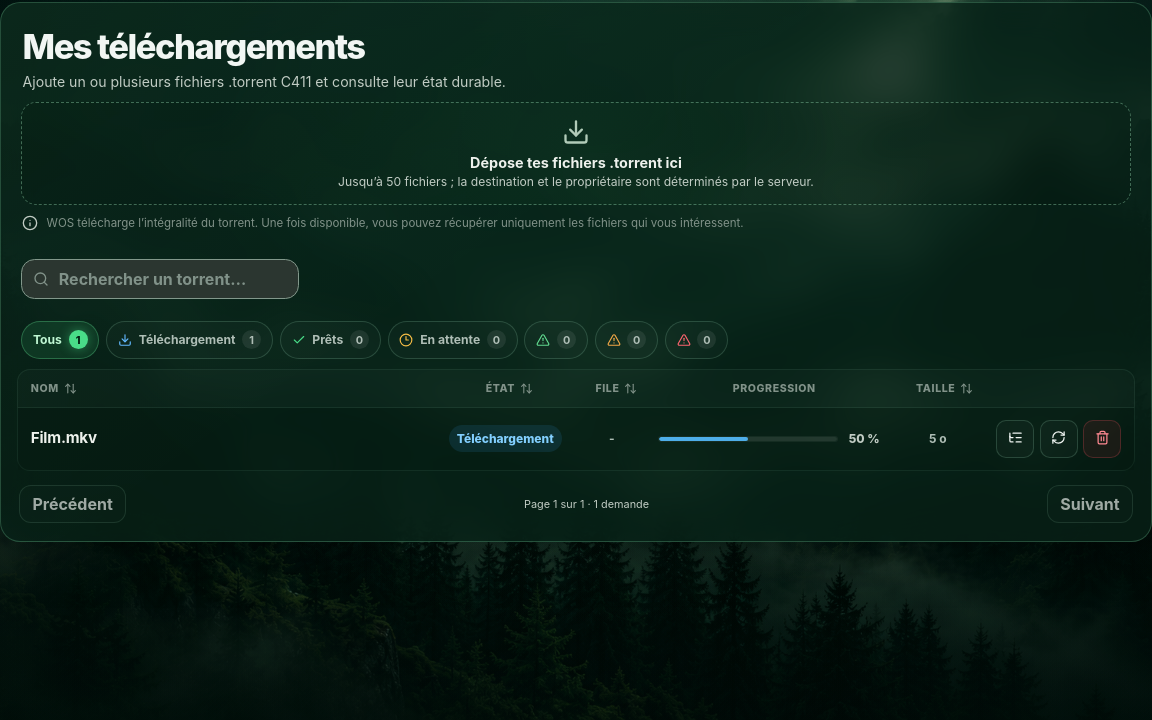
it: UserDownloadsPage › remplace le polling par les invalidations WebSocket et resynchronise après reconnexion
The image size is (1152, 720).
Expected: the text "Téléchargement" is shown, [449,425,562,452]
Click the button named "Afficher les détails de Film.mkv": click(1015, 438) [996,420,1034,458]
Wait 1000 ms
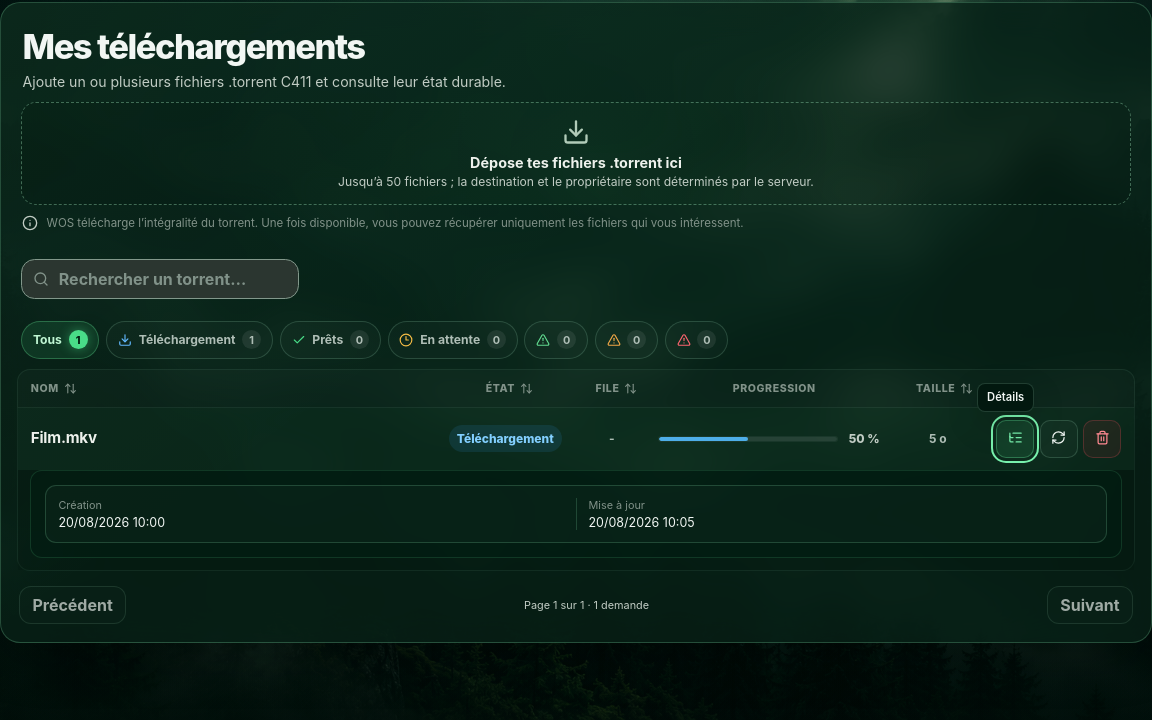
Now the button named "Masquer les détails de Film.mkv" is expanded, box [996,420,1034,458]
